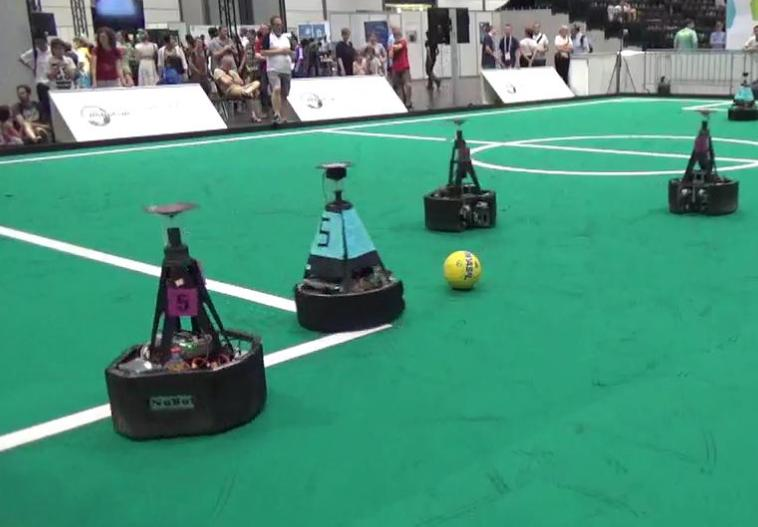robot: (98, 191, 274, 445), (285, 159, 410, 335), (415, 112, 504, 238), (664, 100, 739, 219)
